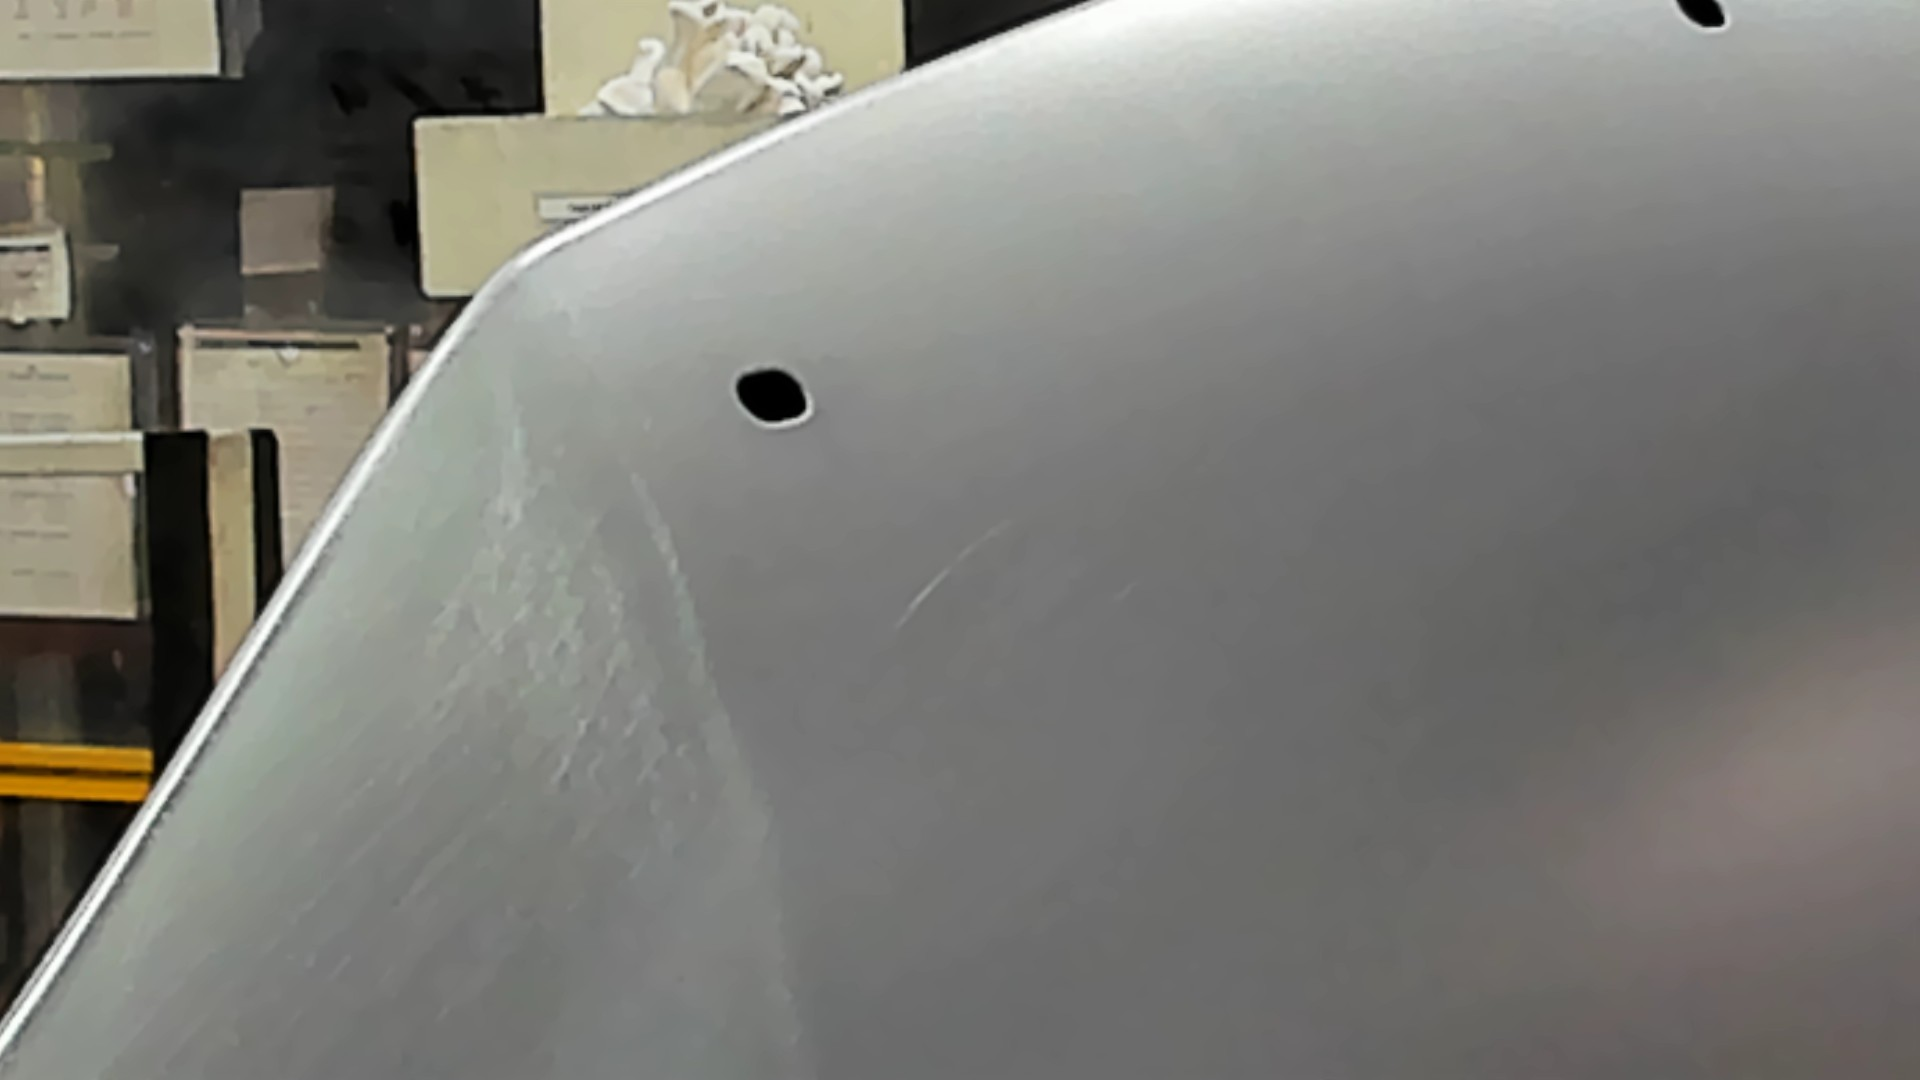amorfo: (731, 360, 818, 431), (1668, 1, 1735, 33)
capo: (918, 112, 1920, 1080)
